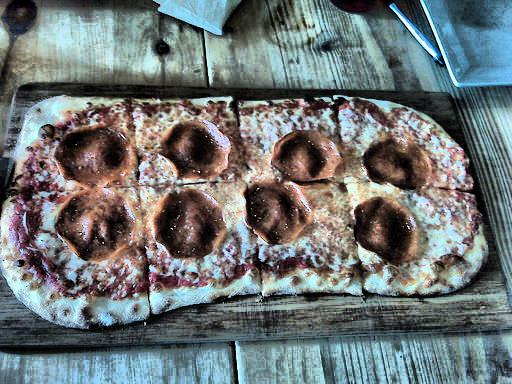pizza: (19, 92, 478, 300)
